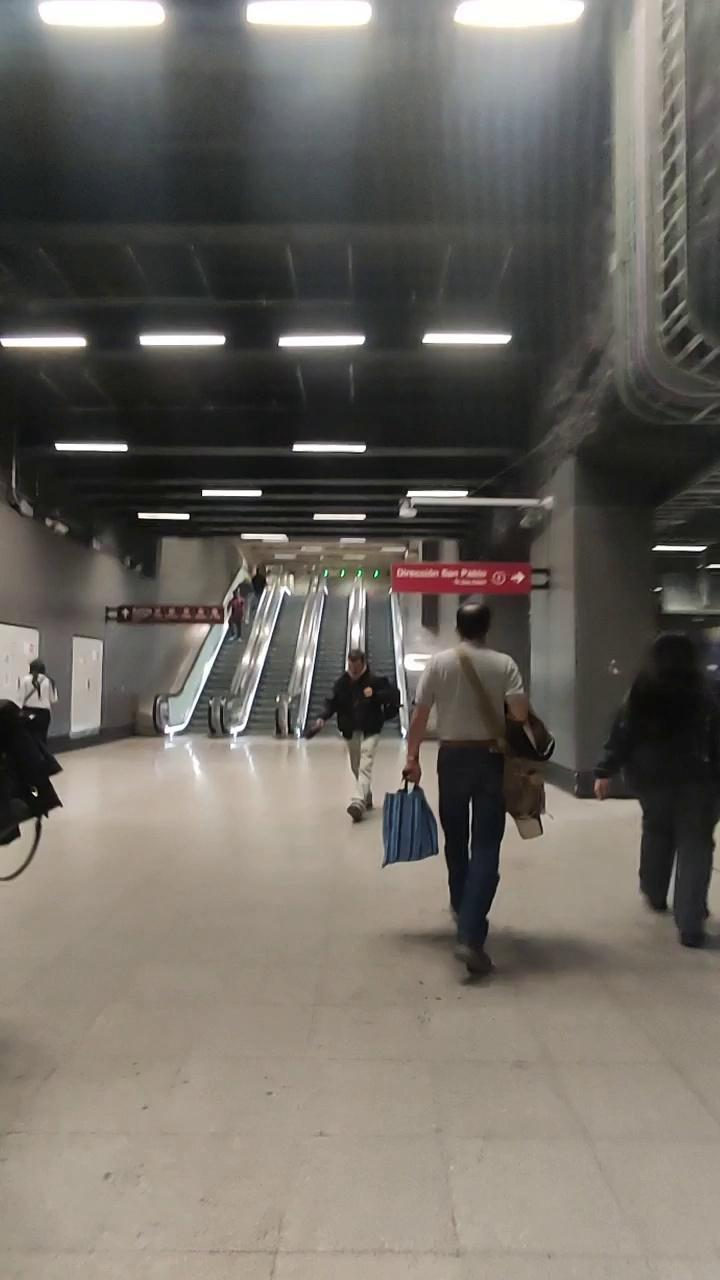right arrow: (510, 571, 528, 586)
up arrow: (120, 605, 132, 621)
